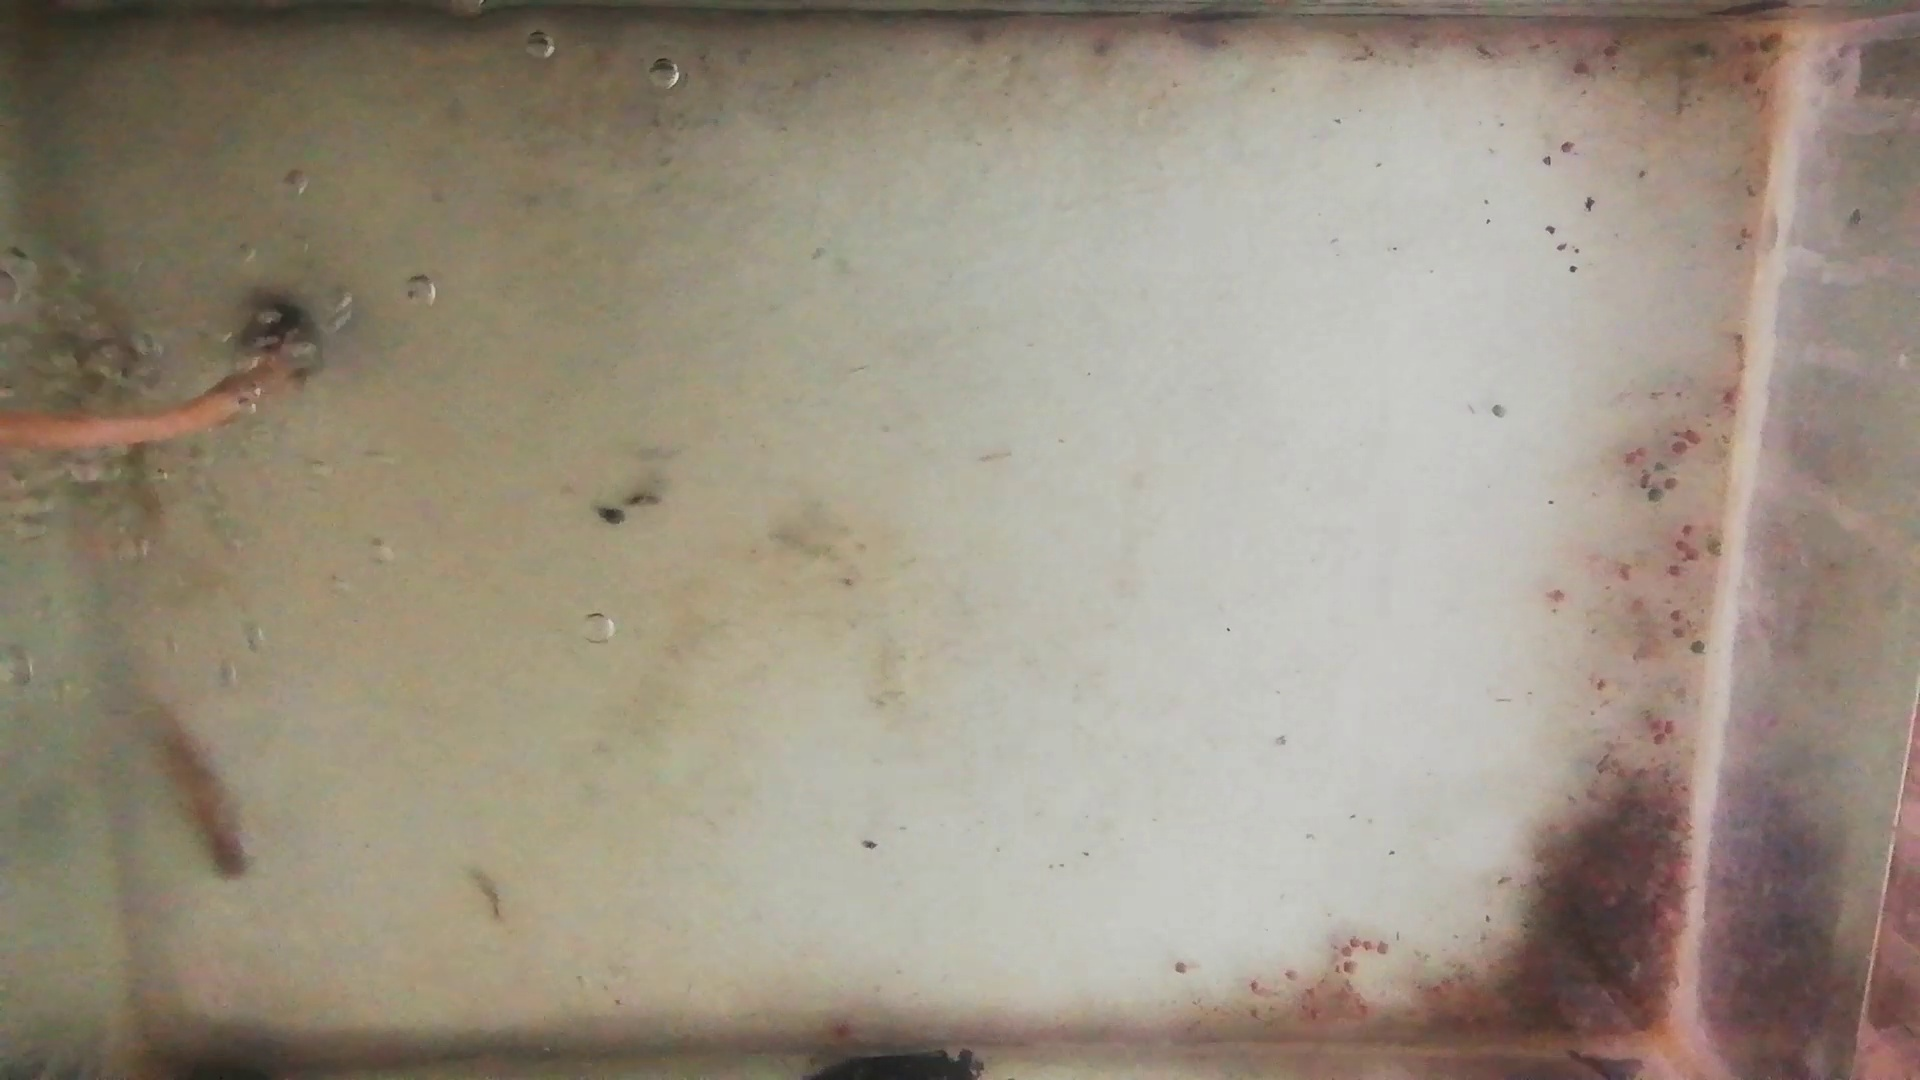fish: (150, 704, 257, 881), (61, 328, 142, 411)
